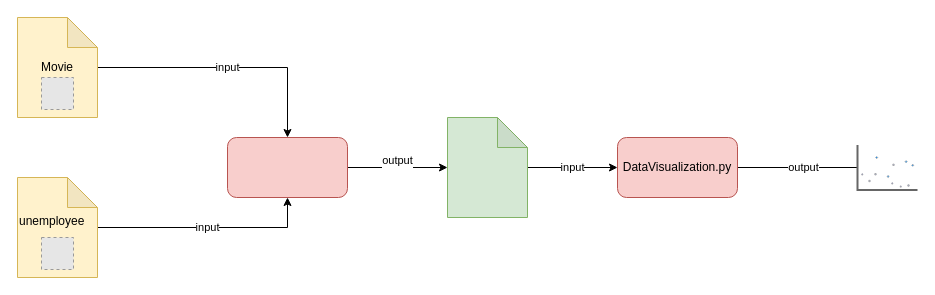
The diagram is 935 pixels wide and 295 high, and some of its shapes have lost their labels. Grey dashed boxes stand in for pictures. Each missing label, with the centre of its shape:
"01- app.py 02-DataTransfer.py" belongs at (287,167).
"result" belongs at (487,167).
